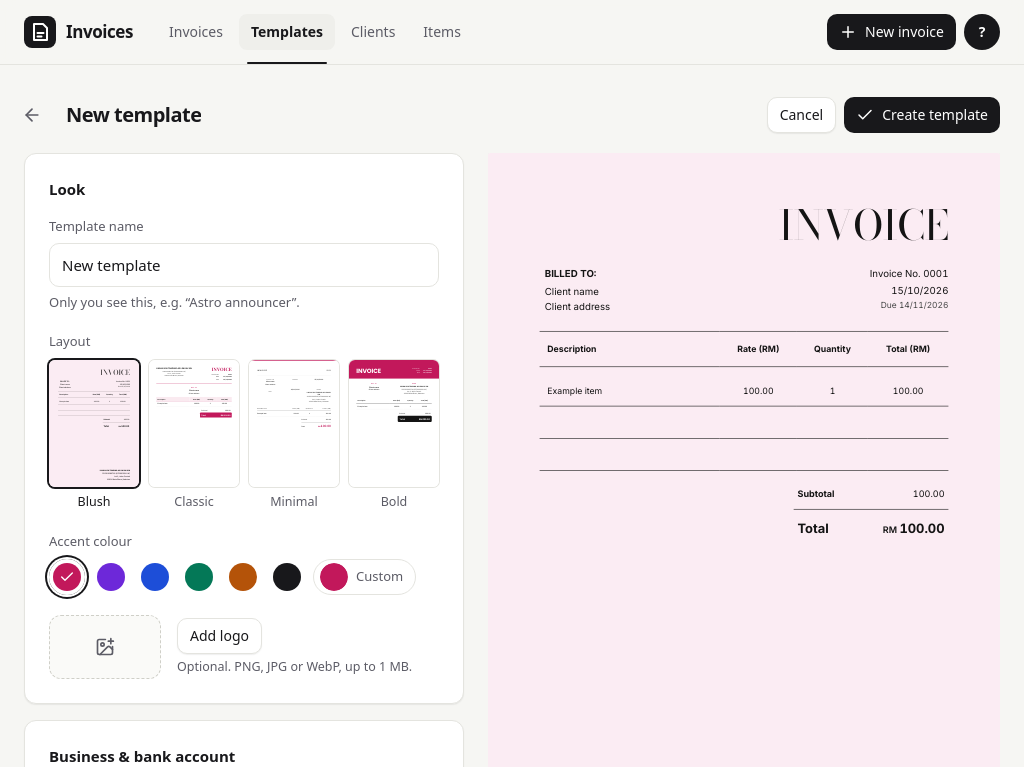
Test: new template › is created only on Create template, with the defaults and your changes
Clear the field labelled "Template name" at x=244, y=264, box [49,242,439,286]
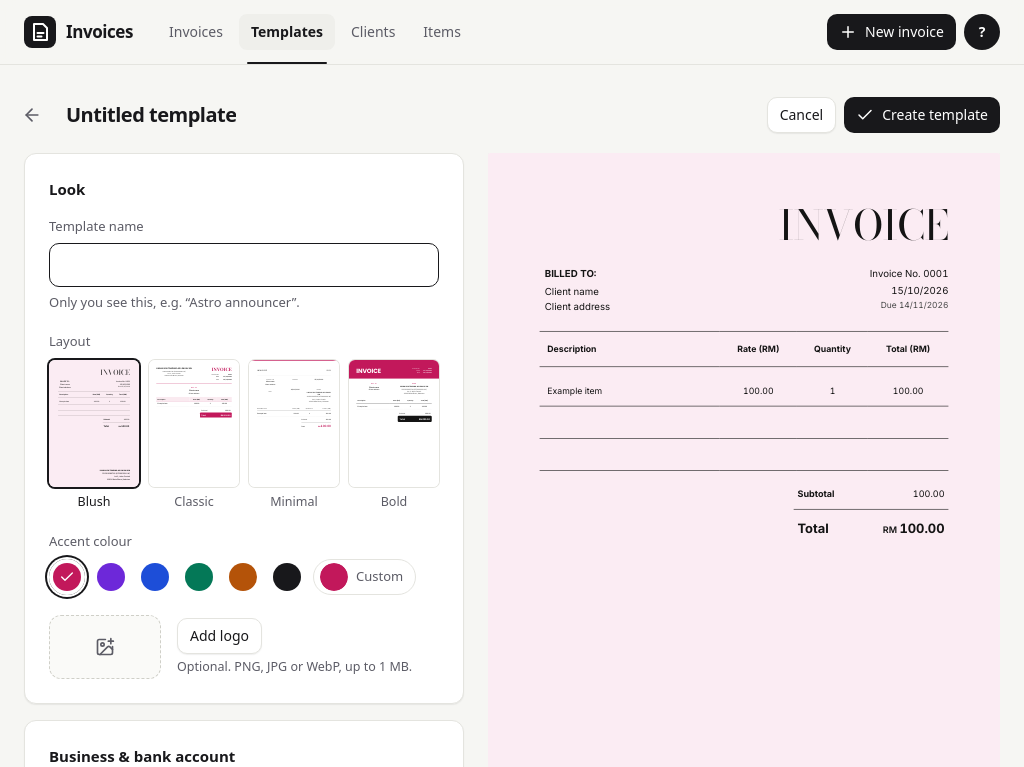
Click the button "Create template" at x=922, y=115, box [844,97,1000,133]
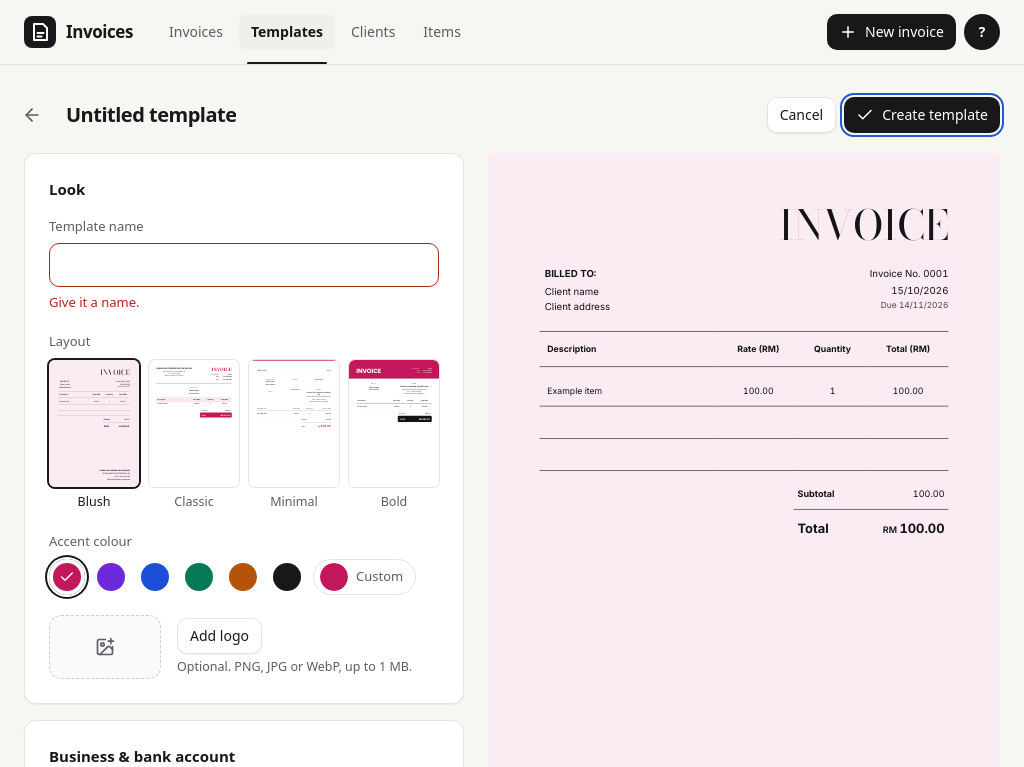
Check: the text "Give it a name." is shown, box [49,292,140,310]
Type "Voice-over" into the field labelled "Template name" at x=244, y=264, box [49,242,439,286]
(page scrolled)
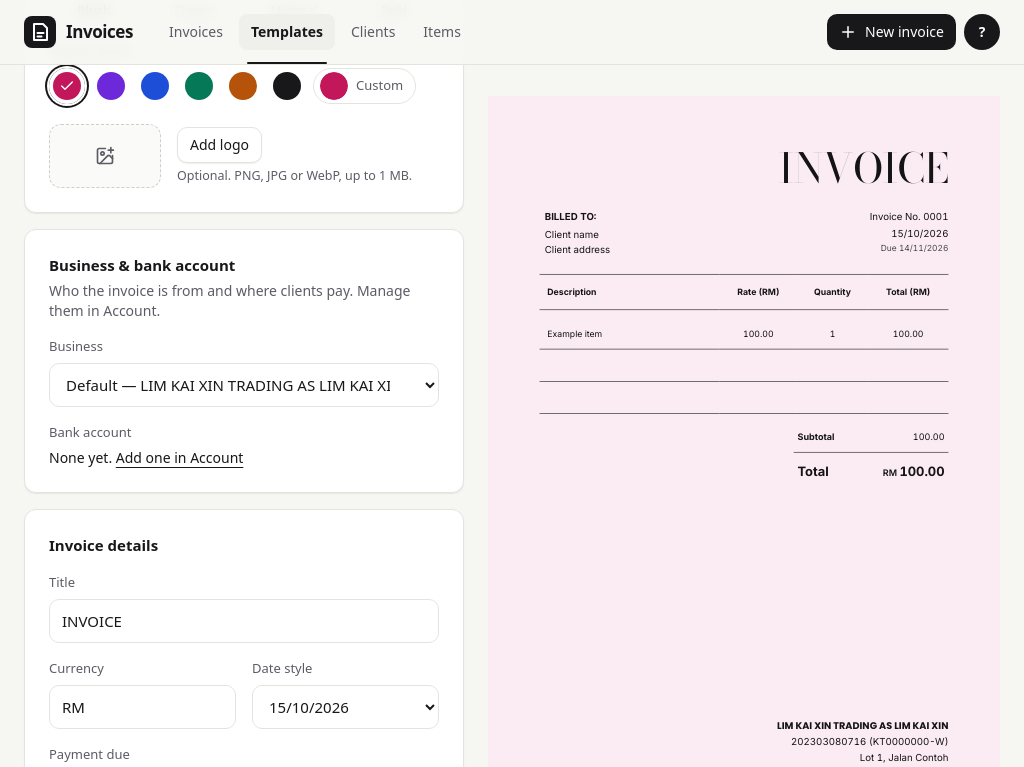
Select "MIN HEN STUDIO" in the dropdown labelled "Business" at x=244, y=384, box [49,362,439,406]
(page scrolled)
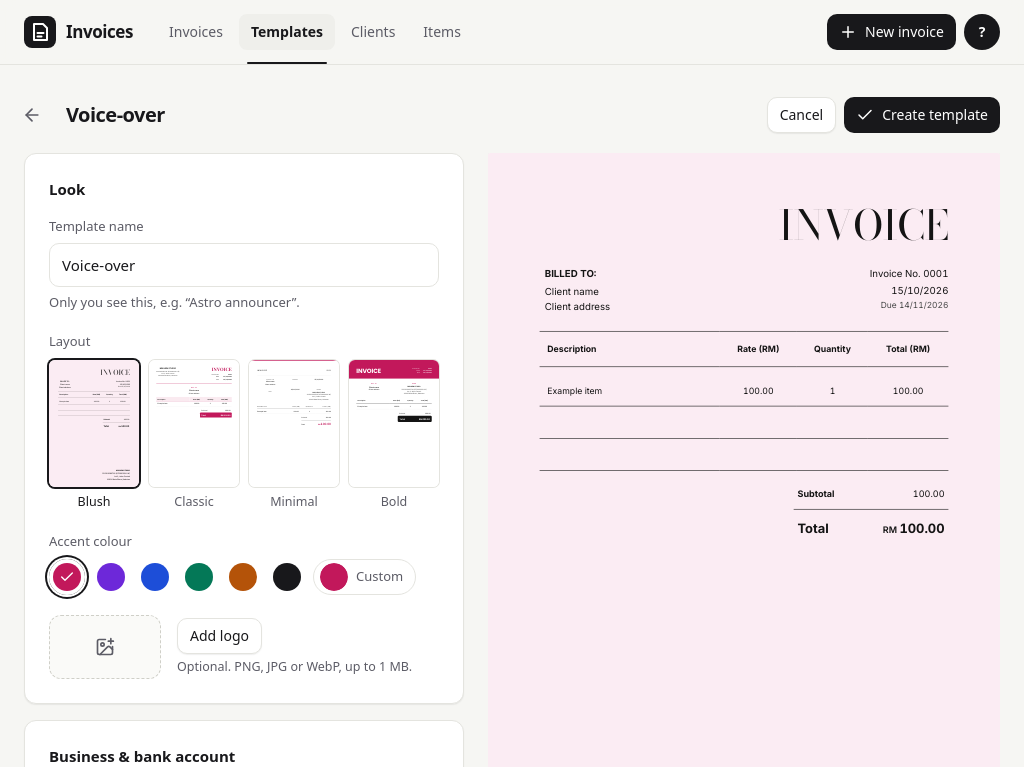
Click the button "Create template" at x=922, y=115, box [844,97,1000,133]
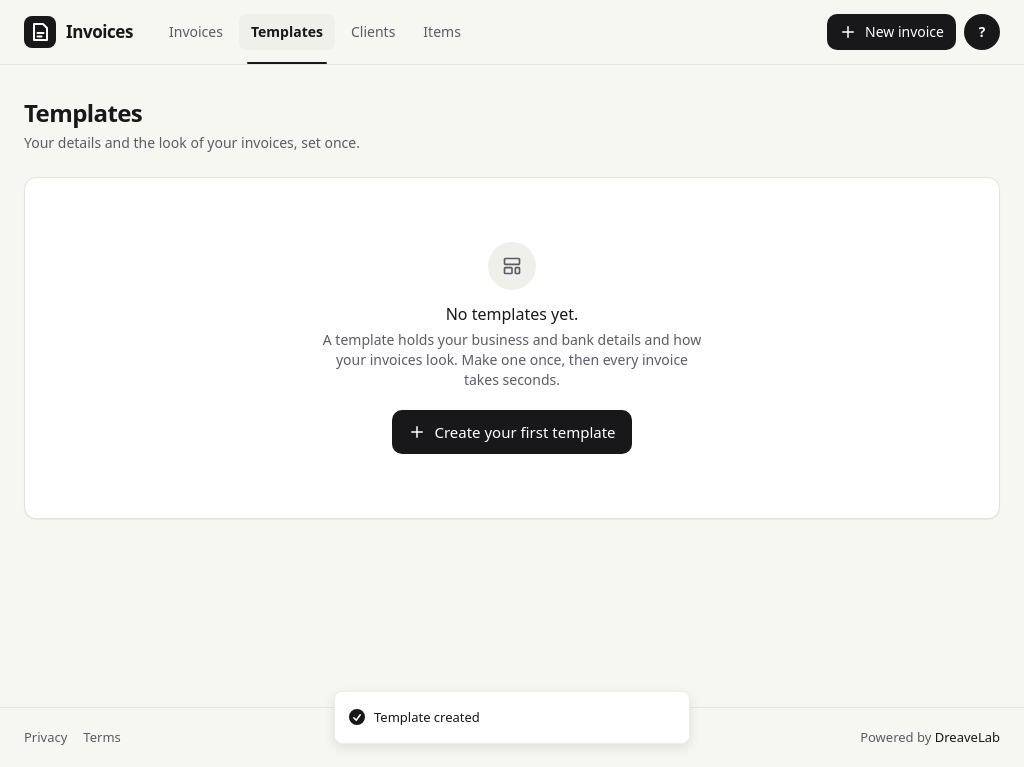
Check: the text "Template created" is shown, box [374,708,480,727]
